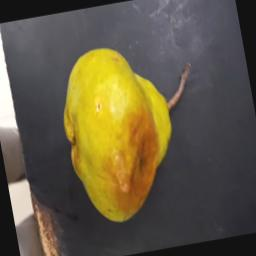Pear Rotten: (40, 28, 217, 230)
